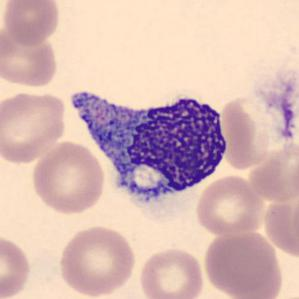Monocyte: (71, 84, 237, 217)
RBC: (56, 223, 138, 298), (29, 139, 107, 216), (201, 228, 283, 298), (0, 88, 69, 165), (218, 93, 286, 170), (193, 173, 266, 236), (0, 27, 60, 90), (137, 245, 206, 299), (249, 142, 299, 204), (1, 0, 62, 47), (265, 186, 299, 260), (0, 233, 33, 299), (269, 290, 299, 299)
